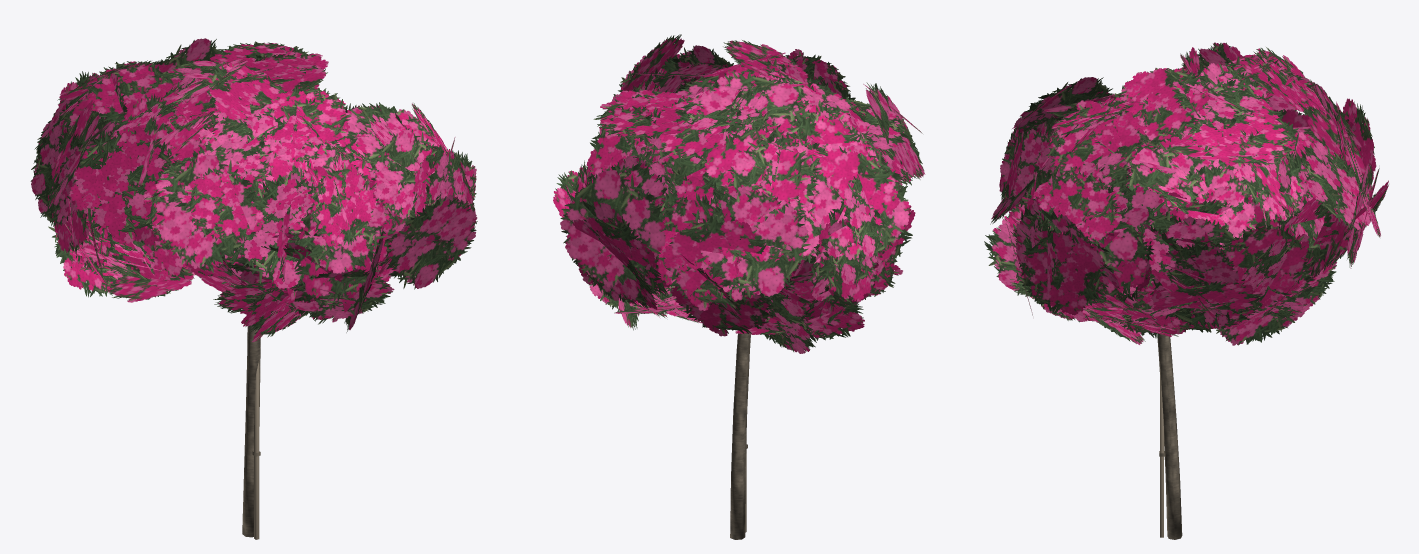
The model's file is SM_Morin_OleandroAlberello_Rosa_LOD1.fbx.
3 renders of one model, left to right at view 1: azimuth 30°, elevation 25°; view 2: azimuth 150°, elevation 25°; view 3: azimuth 270°, elevation 25°, orthographic. The views are drawn at different scales.
Visible parts, largest first — view 1: SM_Morin_OleandroAlberello_Rosa_LOD1; view 2: SM_Morin_OleandroAlberello_Rosa_LOD1; view 3: SM_Morin_OleandroAlberello_Rosa_LOD1.
Boxes of the visible parts, <box> form: SM_Morin_OleandroAlberello_Rosa_LOD1: <box>30,38,477,539</box>; SM_Morin_OleandroAlberello_Rosa_LOD1: <box>553,34,925,539</box>; SM_Morin_OleandroAlberello_Rosa_LOD1: <box>984,42,1388,539</box>.
Bounding box in the file's own units: 352 × 339 × 405.
Materials: 2 (2 with a texture image).
